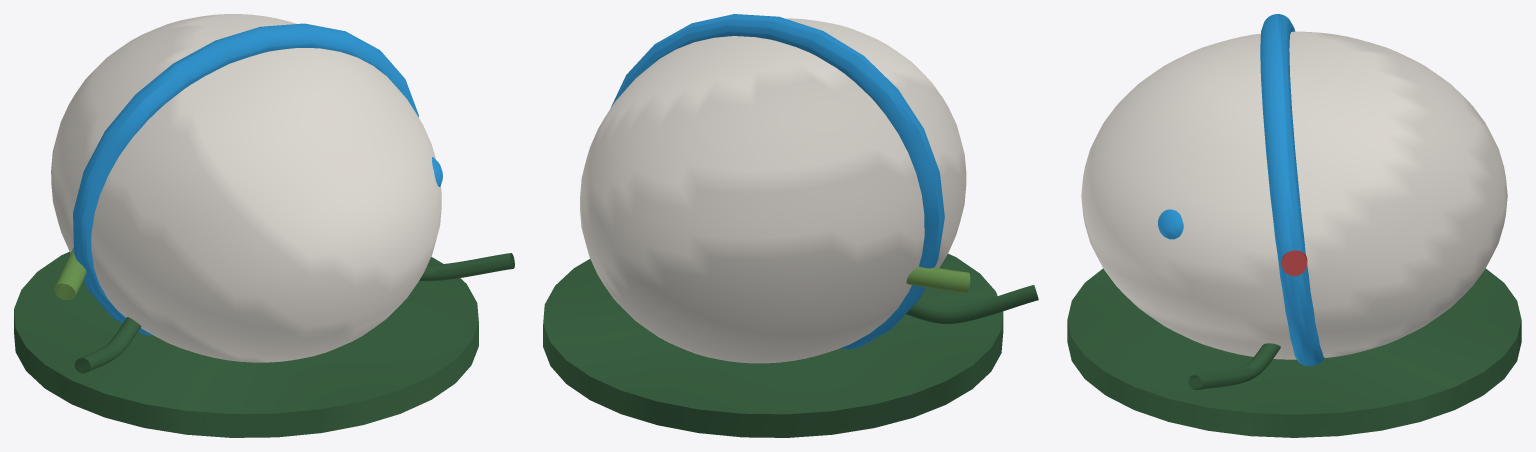
Rendered from 0433_微生物图鉴_抗生素.glb.
The picture shows the model from 3 angles, left to right: view 1: azimuth 30°, elevation 25°; view 2: azimuth 150°, elevation 25°; view 3: azimuth 270°, elevation 25°; orthographic projection. The views are drawn at different scales.
Parts seen in each view (by area): view 1: card_0433; view 2: card_0433; view 3: card_0433.
Part boxes in pixels (x1,y1,x2,y2): card_0433: (14, 14, 514, 437); card_0433: (543, 14, 1038, 437); card_0433: (1067, 14, 1521, 437).
Size of the model in its own units: 1.42 by 1 by 1.31.
